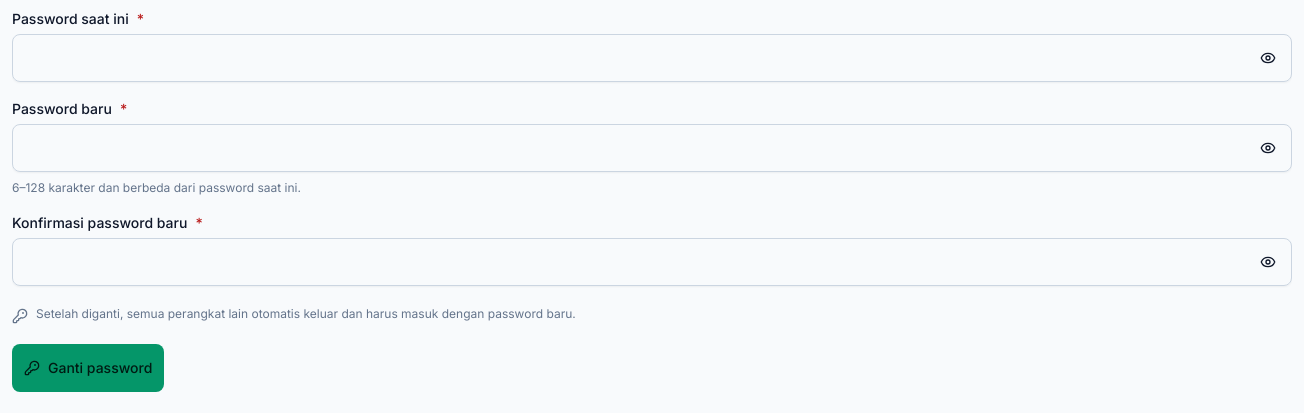
Test case: client-side checks (no request sent) › weak new password (5 characters)
In the password field labelled "Password saat ini *": (652, 58) [12, 34, 1292, 82], type "synthetic-old-password"
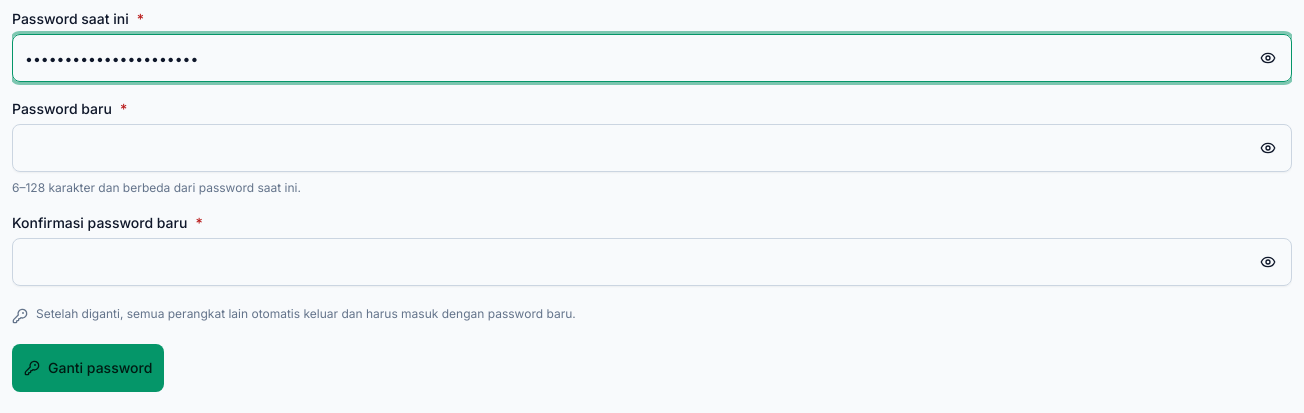
In the password field labelled "Password baru *": (652, 148) [12, 124, 1292, 172], type "abcde"
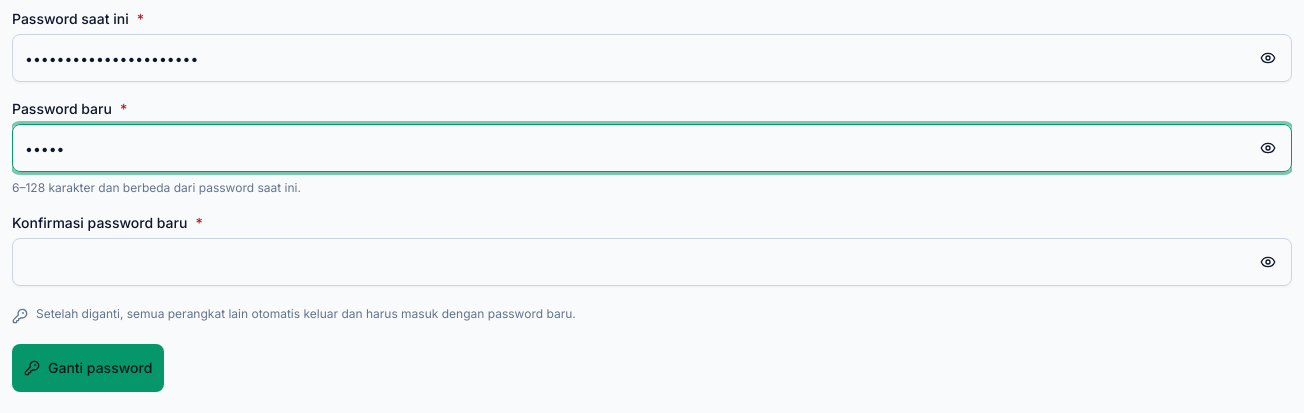
In the password field labelled "Konfirmasi password baru *": (652, 262) [12, 238, 1292, 286], type "abcde"
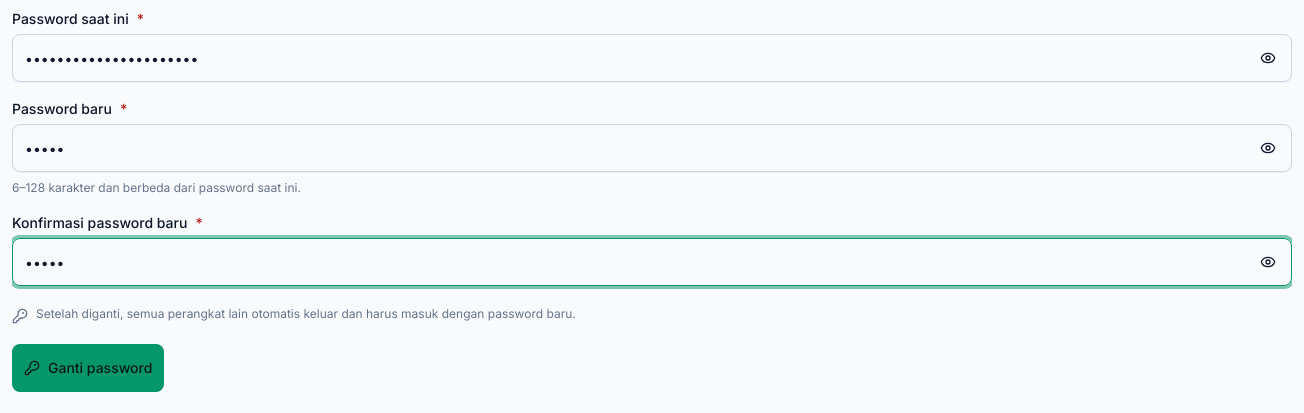
Click the button "Ganti password": (88, 368) [12, 344, 164, 392]
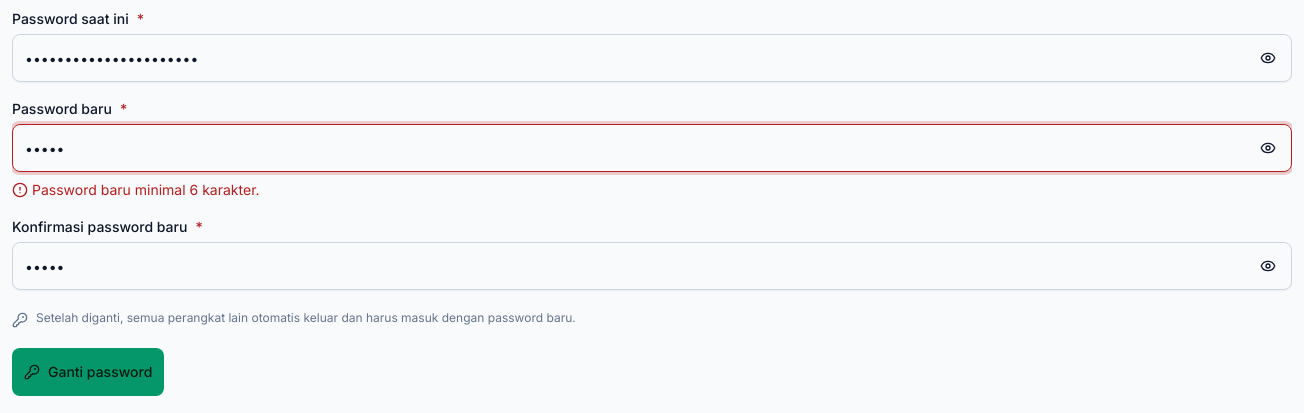
Check: the element showing "Password baru minimal 6 karakter." is shown, box [12, 181, 260, 198]
